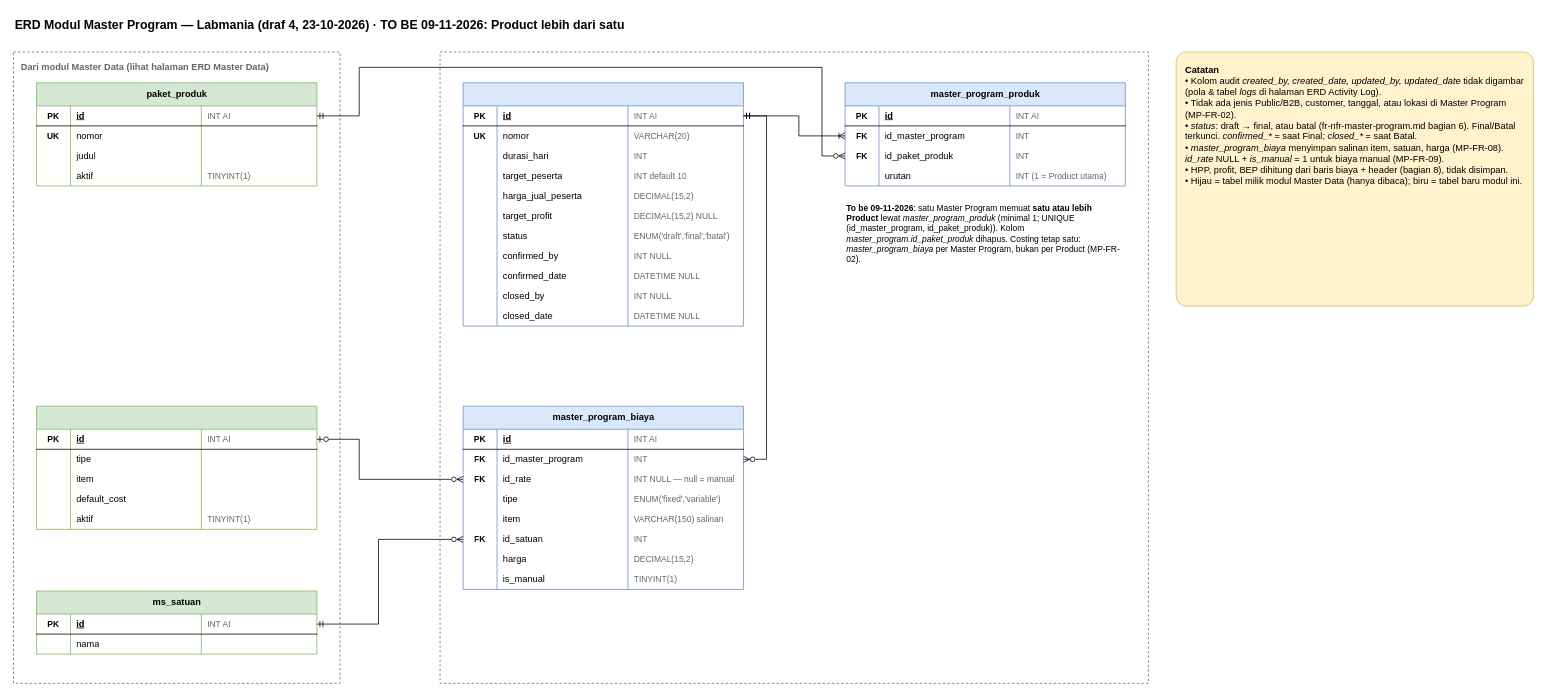
Some shapes in this 1547 by 697 pixel diagram are drawn without their labels. Each missing label, with the box of its shape:
Master Program › Program: (439, 51, 1148, 683)
master_program: (462, 82, 743, 326)
ms_rate: (36, 405, 317, 529)
